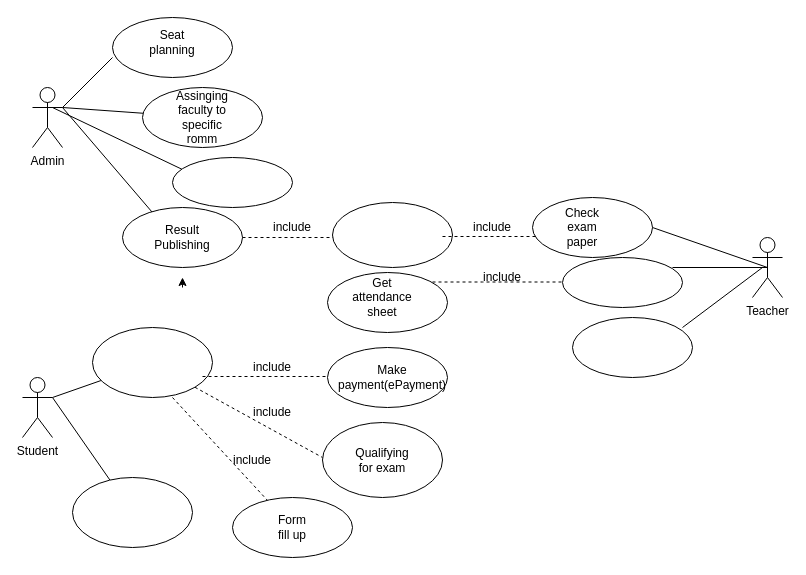
The diagram is 806 pixels wide and 575 high, and some of its shapes have lost their labels. Here are the shapes that lost their labels. From the top down, the centre of each, then its label:
(232,182): Exam scheduling
(392,235): CGPA Calculation
(622,282): Attendance recording
(152,362): Attend in exam
(632,347): Set question paper
(132,512): View result
